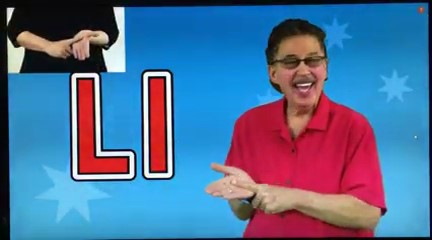L: (199, 156, 313, 223)
